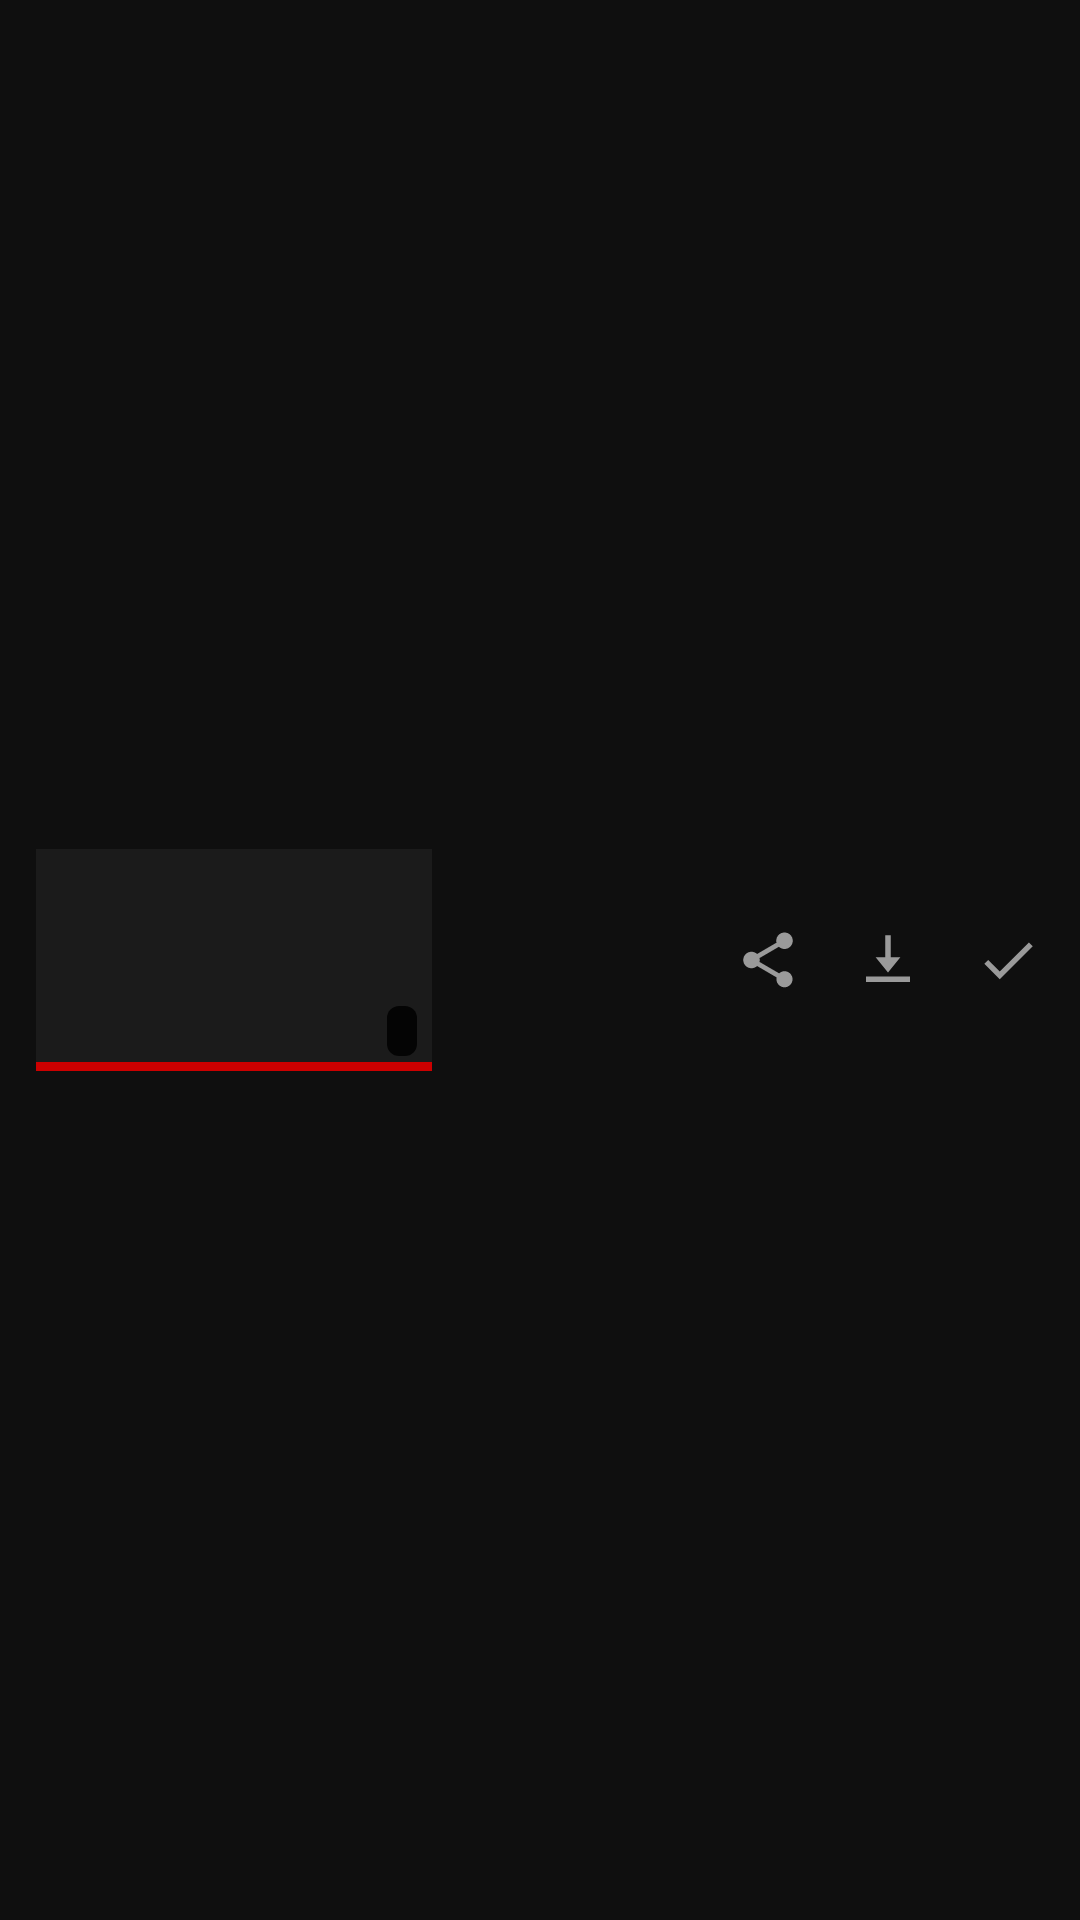

Icons on this 1080*1920 Android screen, each with the point to tap as [x,y]:
Cache: [888,958]
Mark watched: [1008,960]
Share: [768,960]
